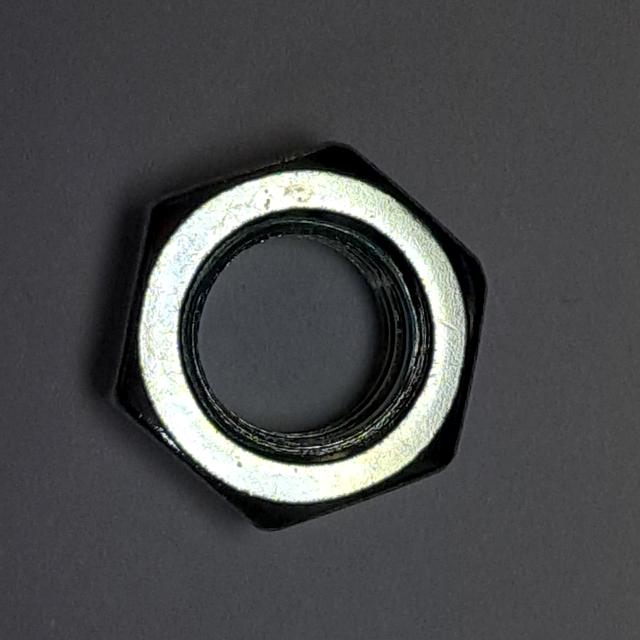Excellent: (87, 119, 502, 544)
